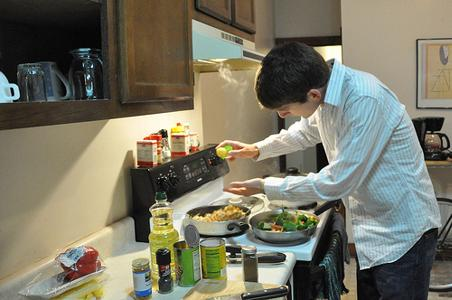person: (219, 44, 438, 300)
